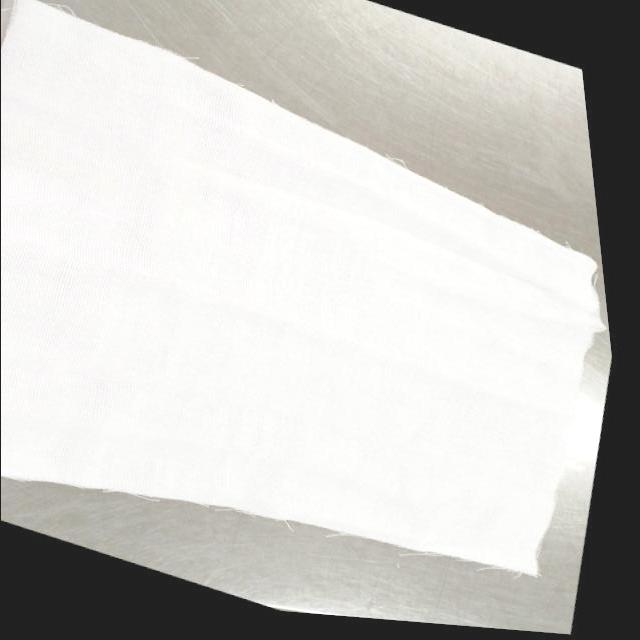Infectious: (2, 2, 609, 581)
